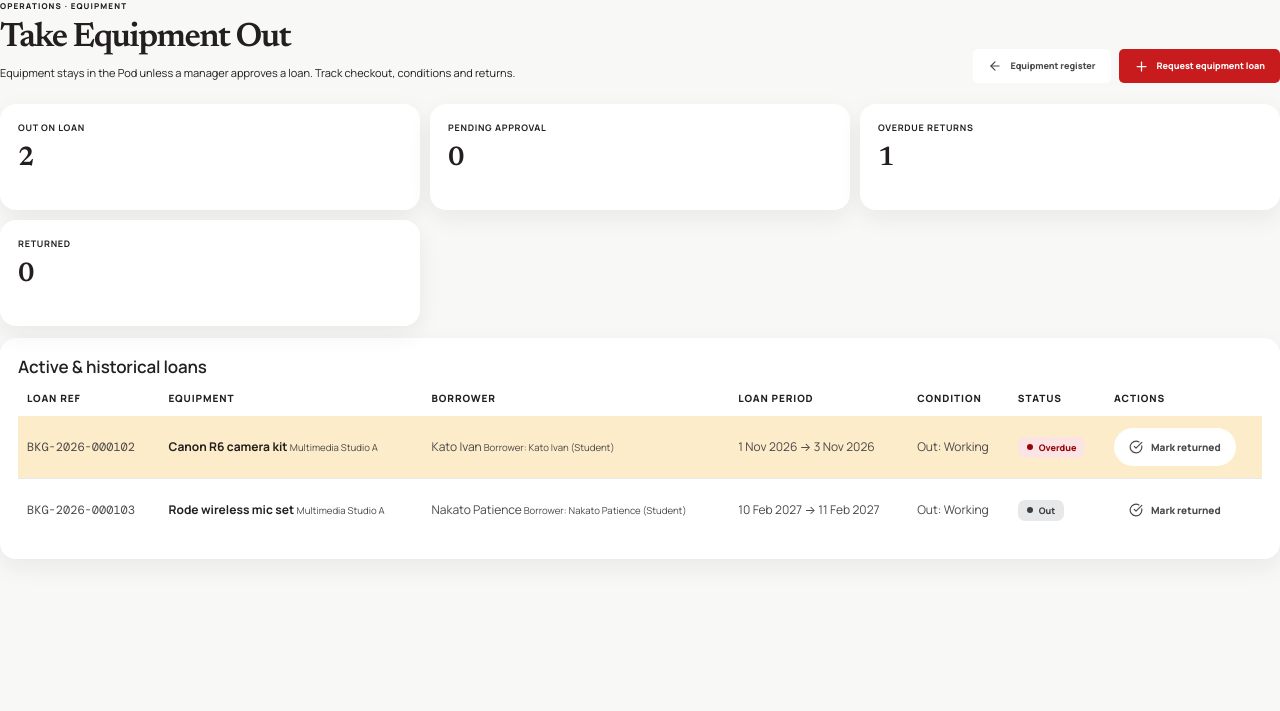
Test case: EquipmentLendingPage › records a return with a condition note
Click the button "Mark returned" in the row of "BKG-2026-000102" at (1175, 447), box [1114,428,1236,466]
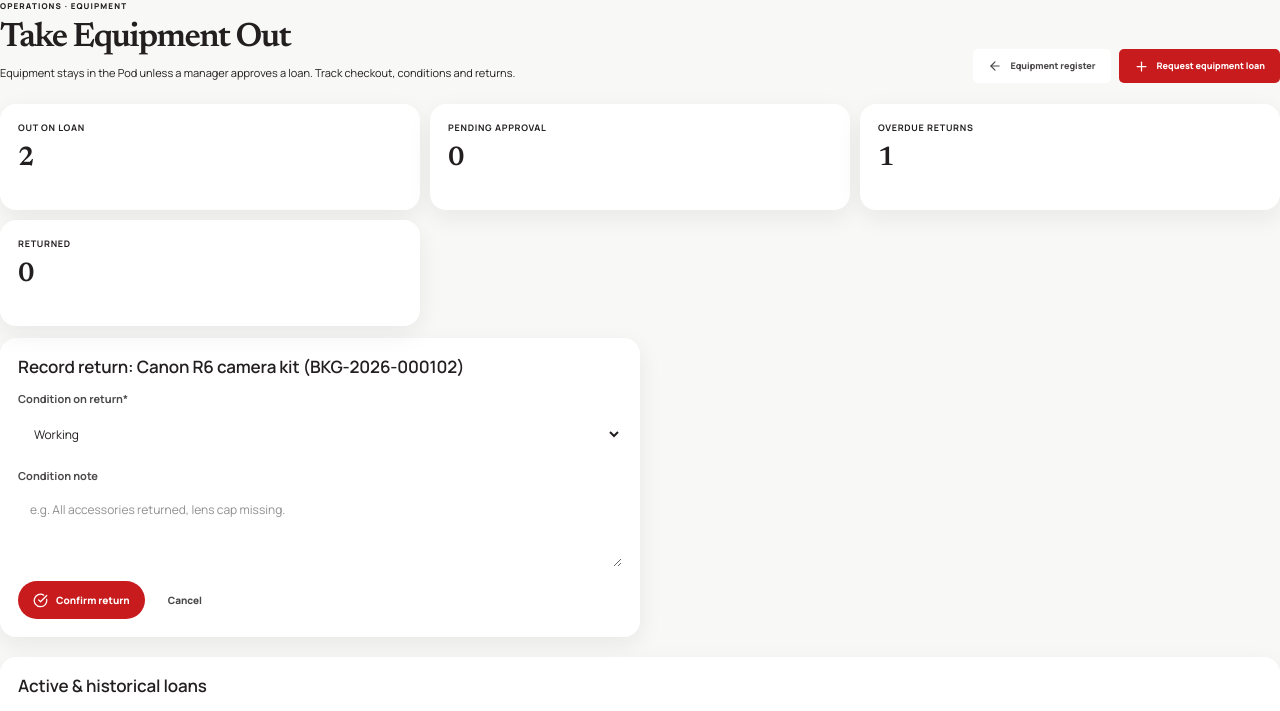
Select "Damaged" in the dropdown labelled "Condition on return*" at (320, 434), box [18,415,622,454]
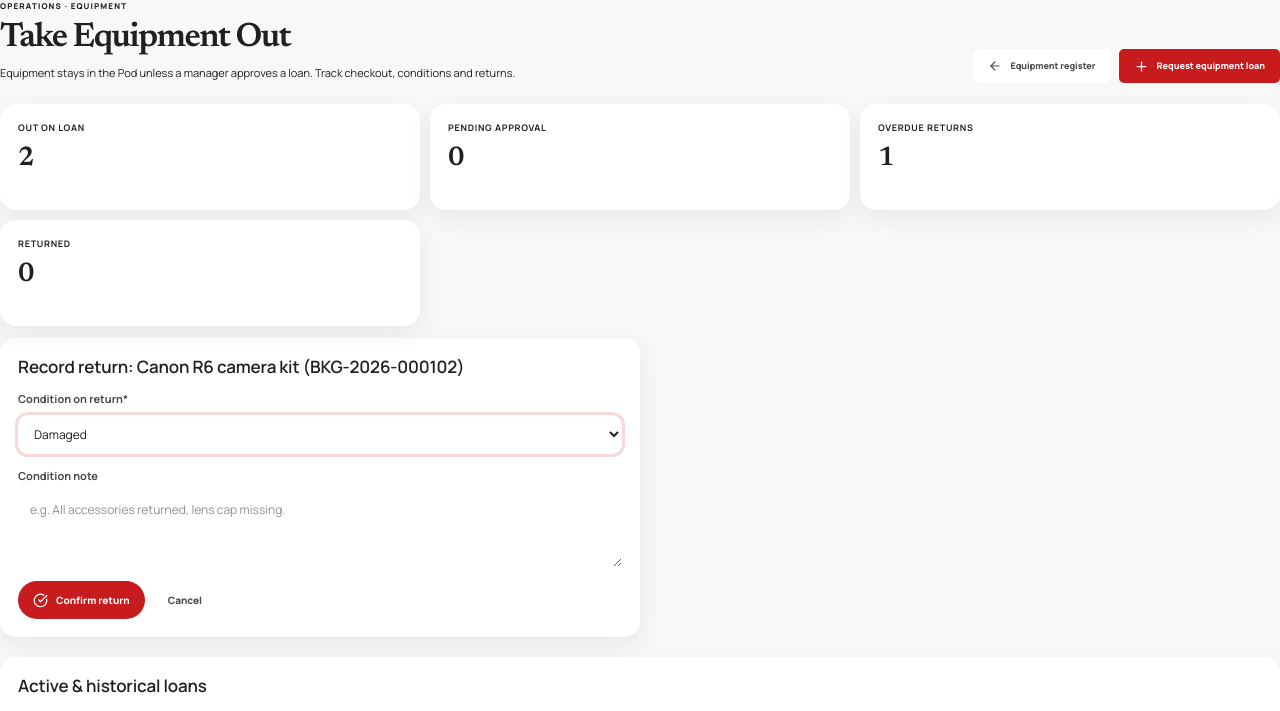
Type "Lens hood cracked." into the text box labelled "Condition note" at (320, 529), box [18,491,622,567]
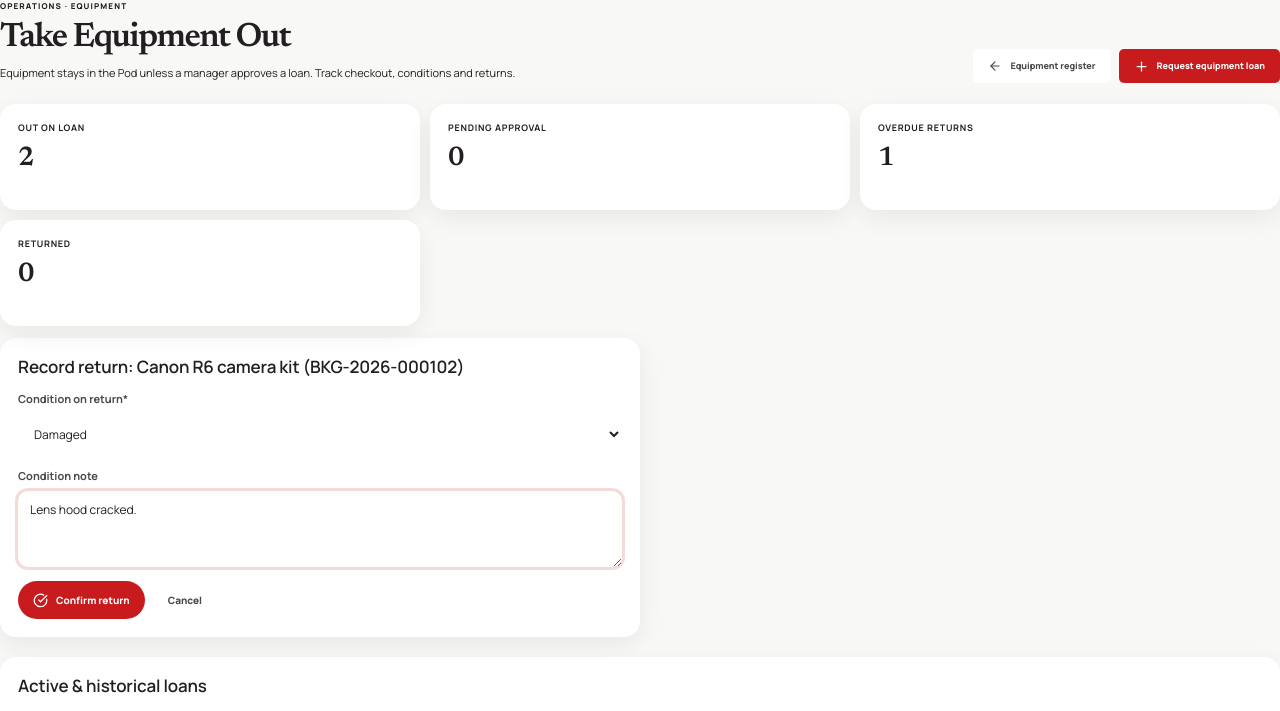
Click the button "Confirm return" at (81, 600), box [18,581,145,619]
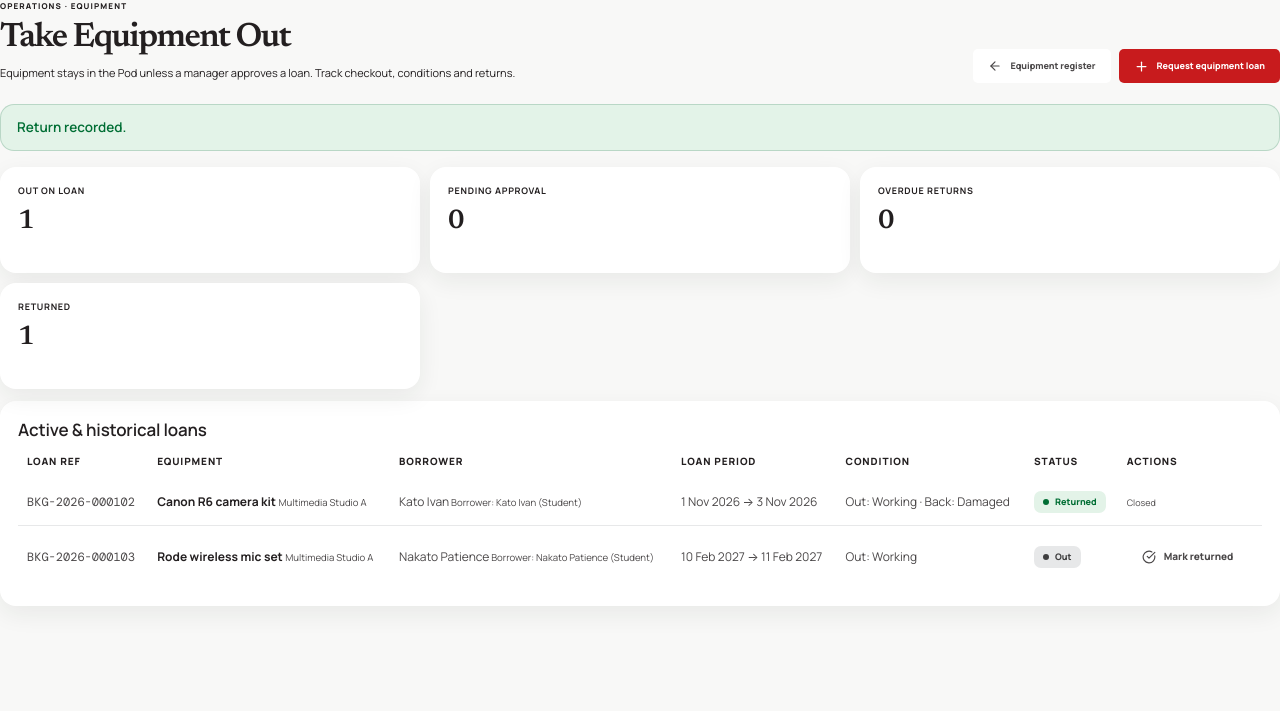
Result: the text "Returned" is shown at [1034,491,1106,513]
Result: the text "Out: Working · Back: Damaged" is shown at [836,479,1025,525]
